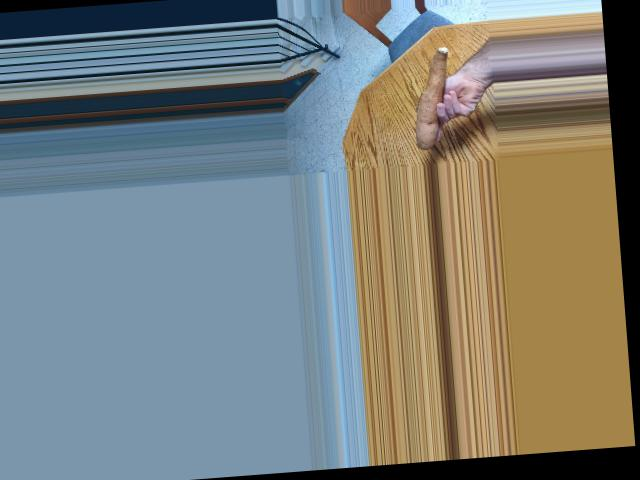sweet_potato: (402, 43, 455, 148)
